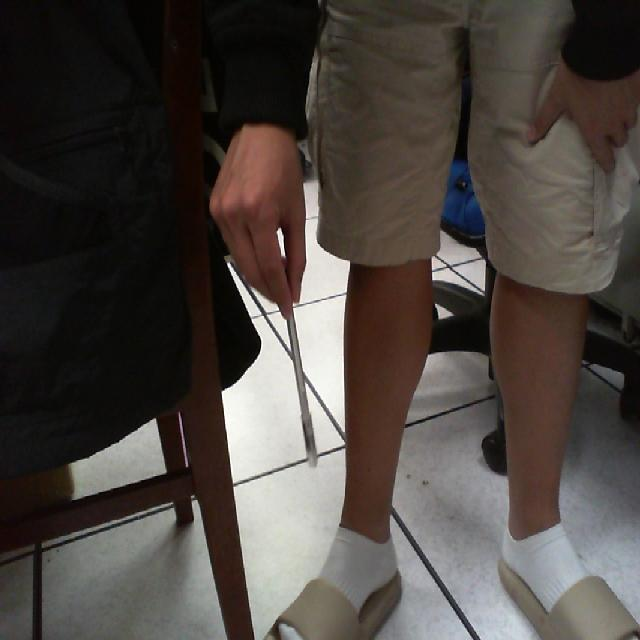Pen: (260, 258, 335, 487)
